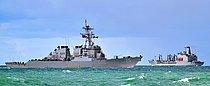MIL_Ship: (3, 18, 143, 69), (147, 42, 205, 68)
